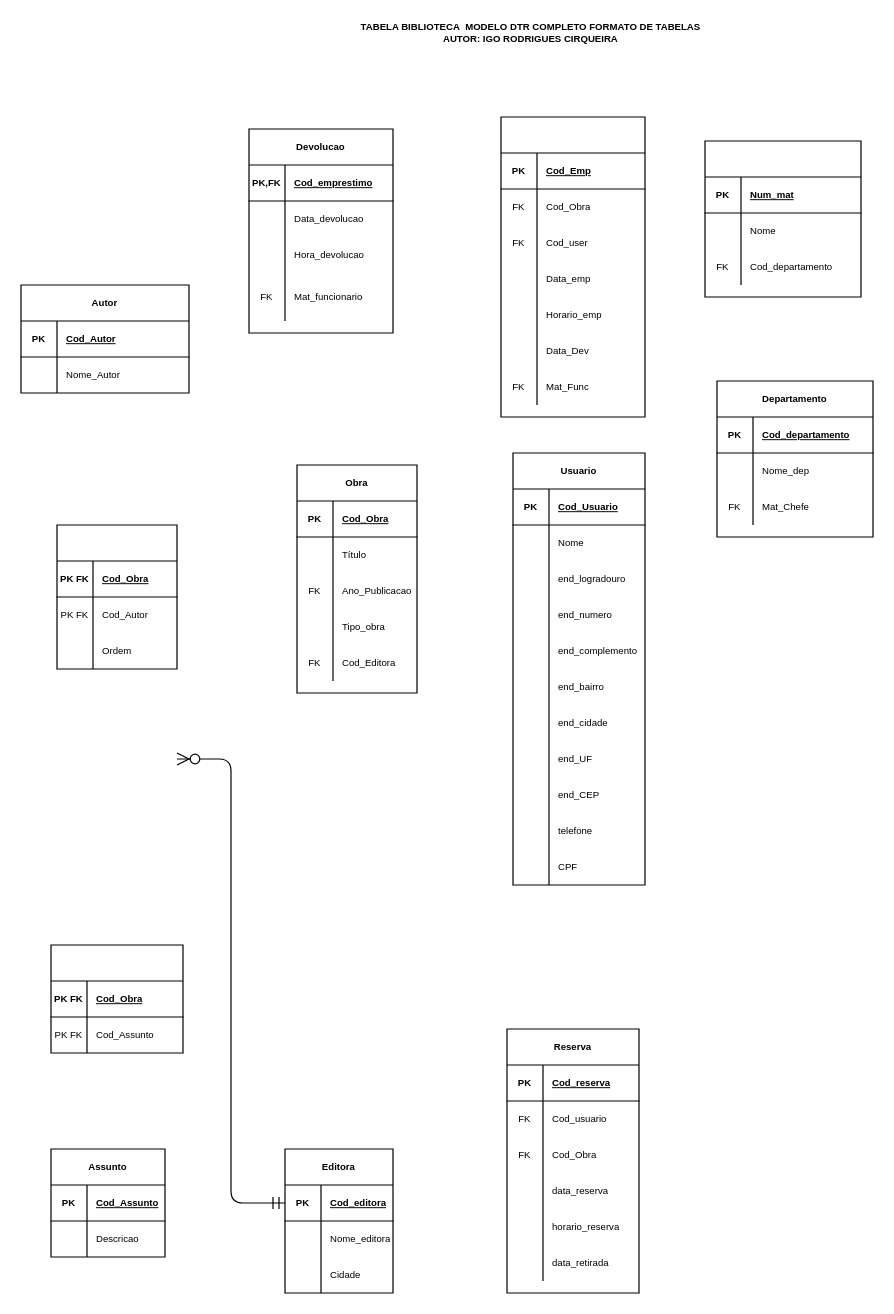
Image size: 894x1314. Some labels were removed from this diagram. The shapes that lost their labels are listed below. From the top down, each one's box as (x1, y1, x2, y2) in pixels, then its label:
(704, 140, 861, 297): Funcionario
(500, 116, 645, 417): Emprestimo
(56, 524, 177, 669): Obra_Autor
(50, 944, 183, 1053): Obra_Assunto
